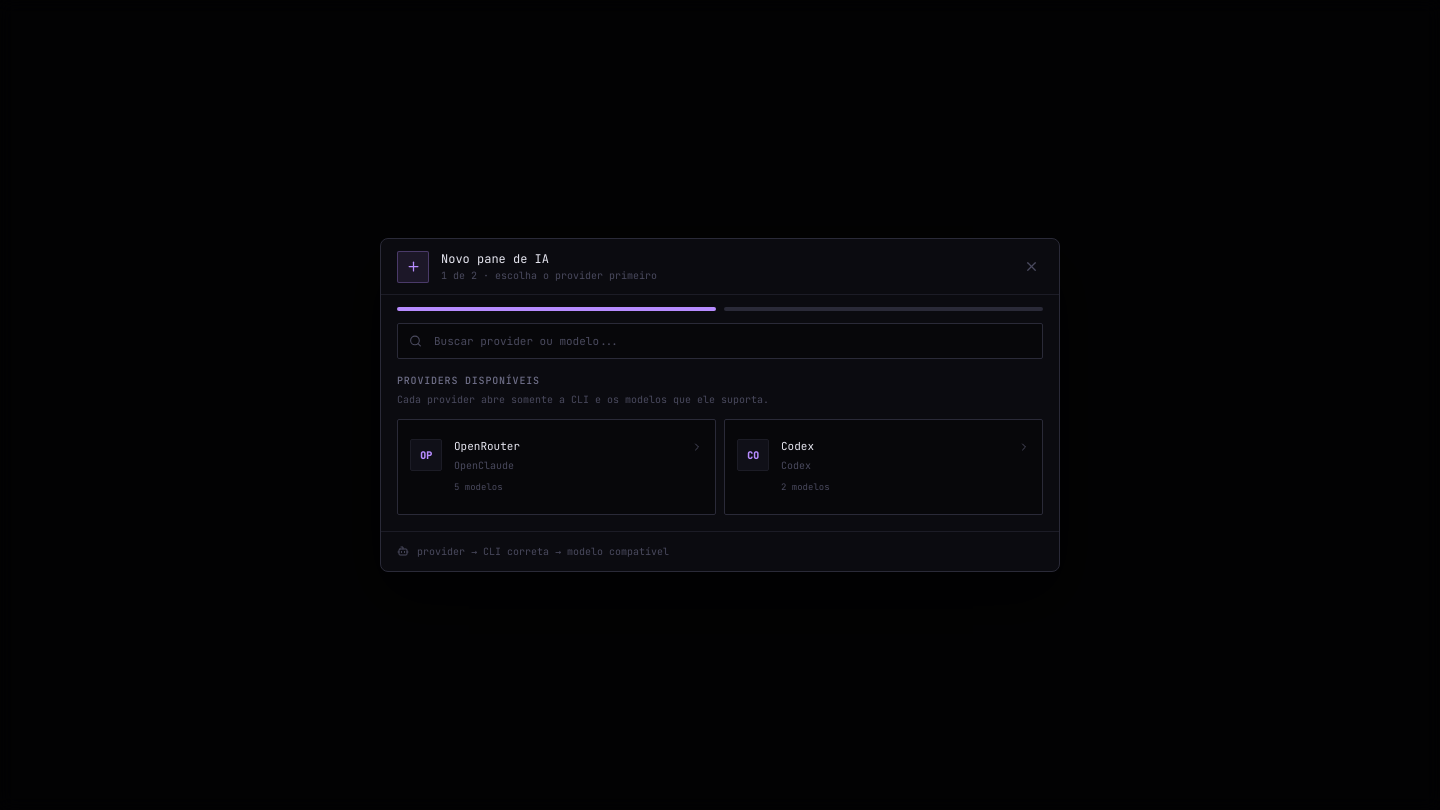
Scenario: PaneLauncher search › explains an empty result instead of showing a blank list
The image size is (1440, 810).
Click the text "OpenRouter" at (487, 447), box [454,439,520,454]
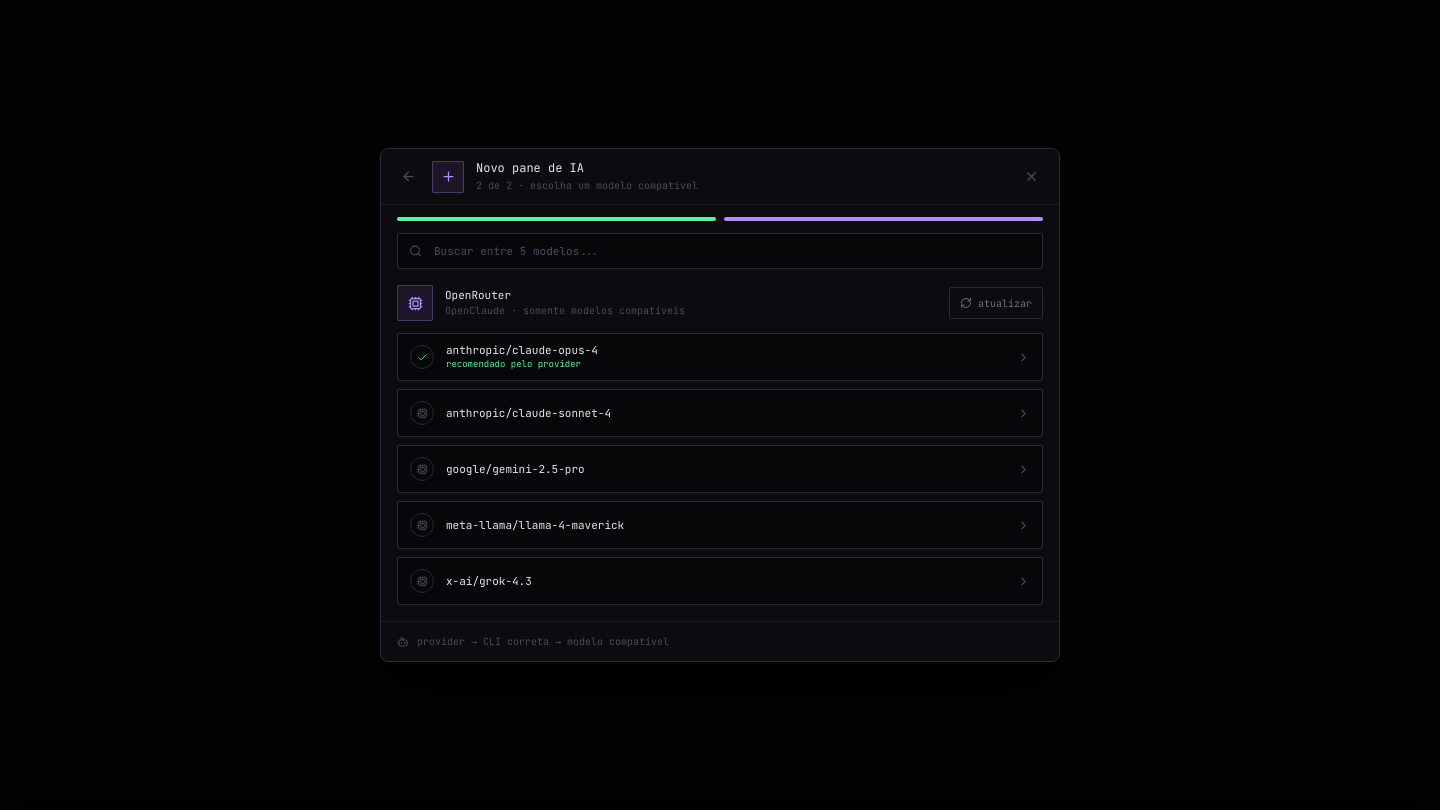
Type "mistral" into the search field named "Buscar modelo" at (720, 251), box [397,233,1043,269]
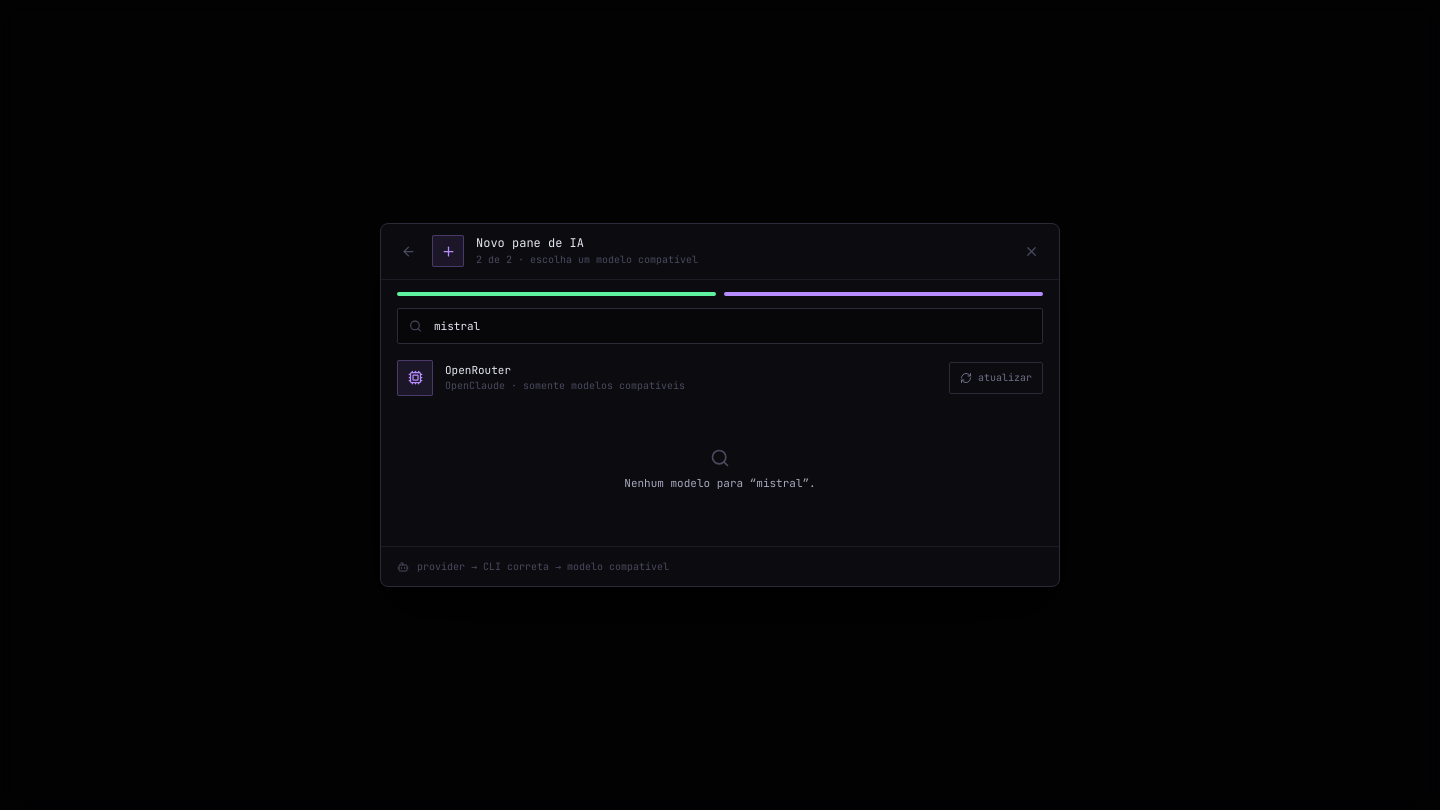
expect the text "Nenhum modelo para “mistral”." is shown: met, box [624,476,816,490]
